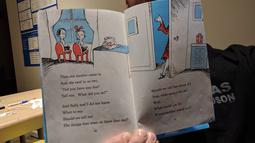text block: (55, 70, 132, 128), (148, 79, 198, 119)
